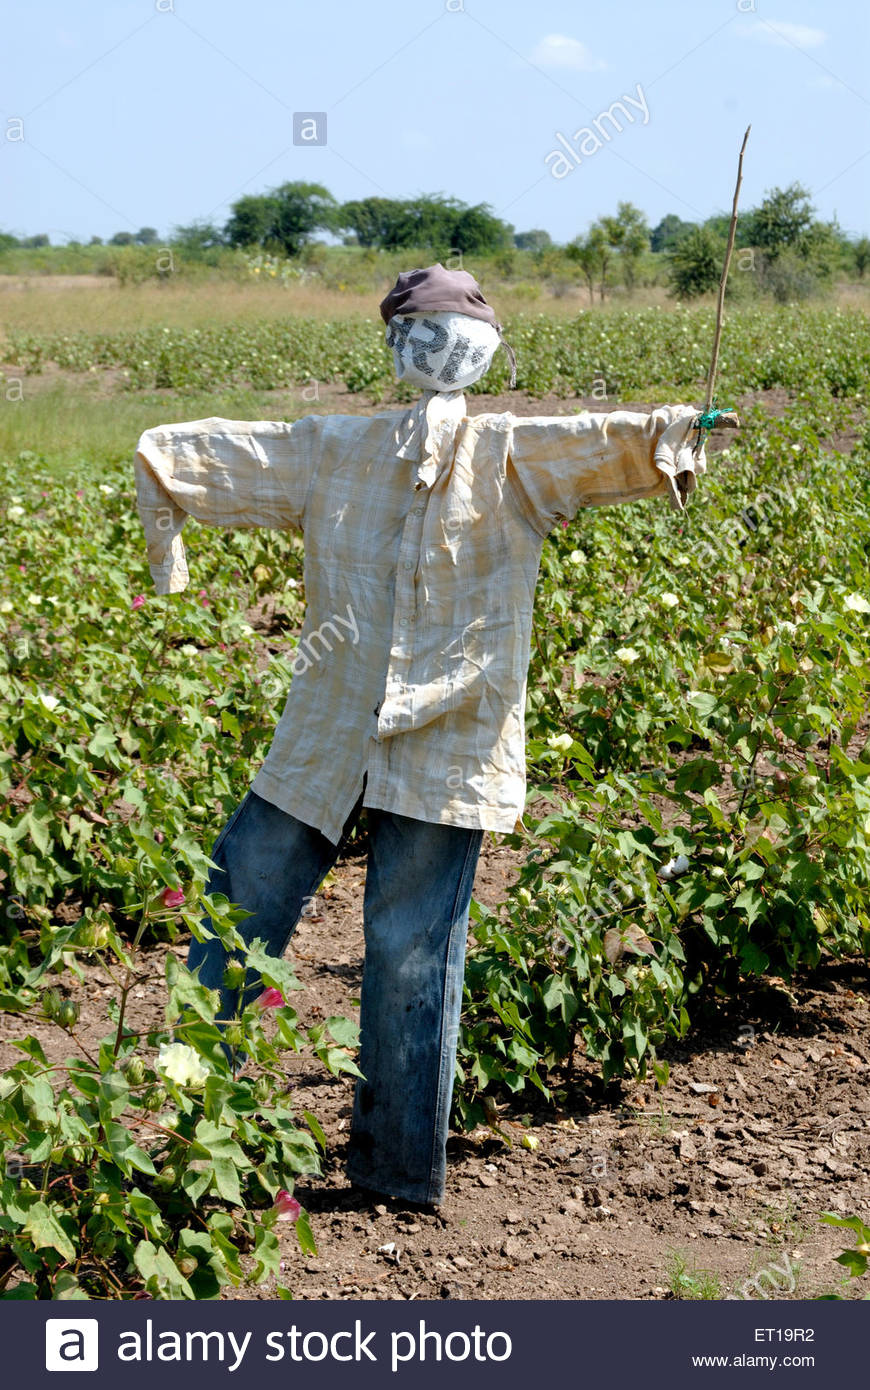person-like: (119, 260, 728, 1223)
